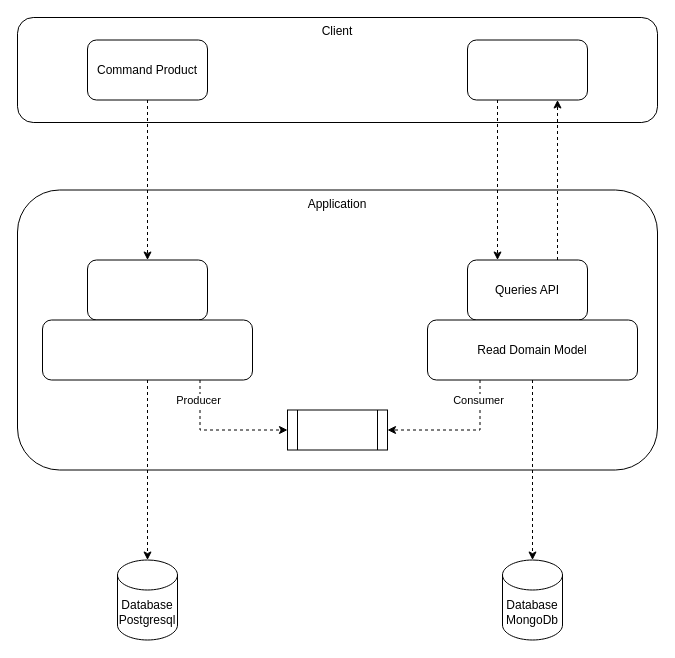
The diagram is 675 pixels wide and 658 high, and some of its shapes have lost their labels. Here are the shapes that lost their labels. From the top down, the box of each, then its label:
(466, 39, 588, 100): Query Product
(86, 259, 208, 320): Commands API
(42, 319, 252, 380): Writer Domain Model
(286, 409, 388, 450): event Rabbitmq
